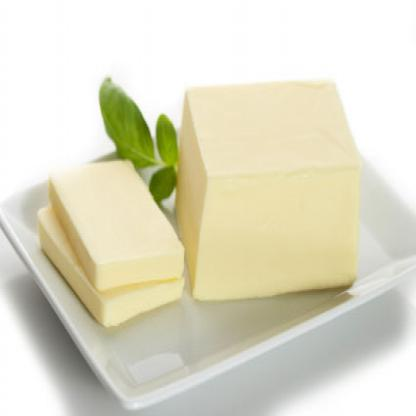butter: (171, 82, 362, 296), (35, 192, 185, 332), (49, 155, 182, 276)
